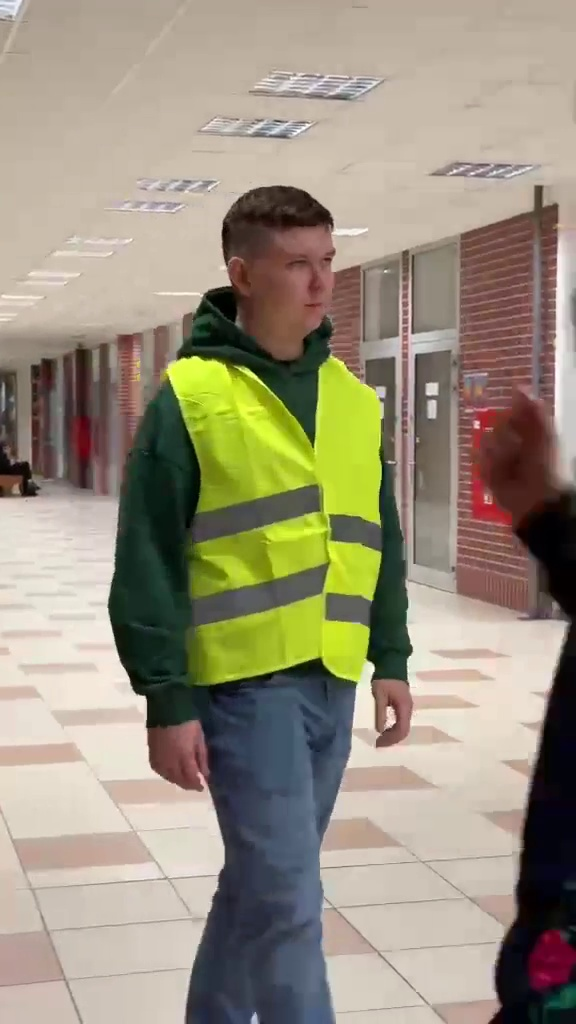vest: (124, 175, 412, 1003)
